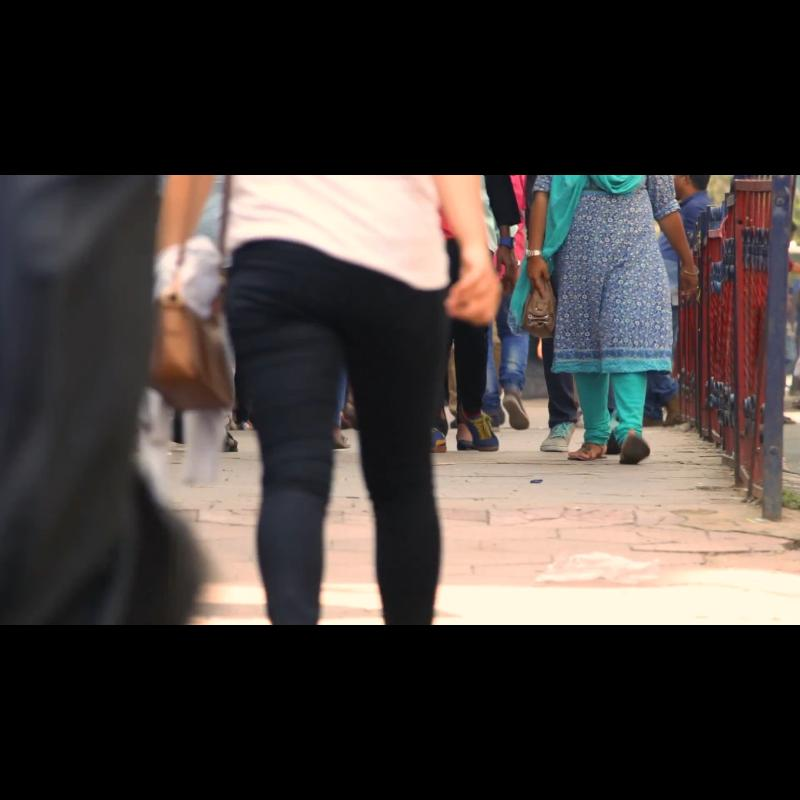Jeans: (226, 243, 447, 625)
